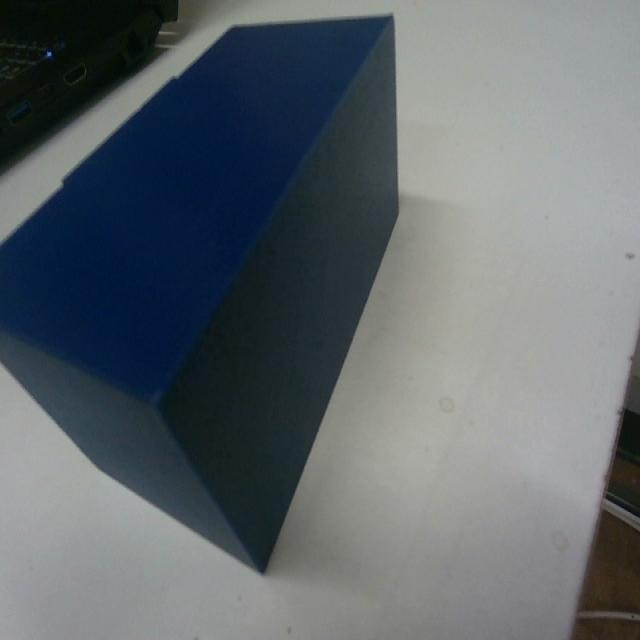Blue Cuboid: (0, 11, 402, 573)
